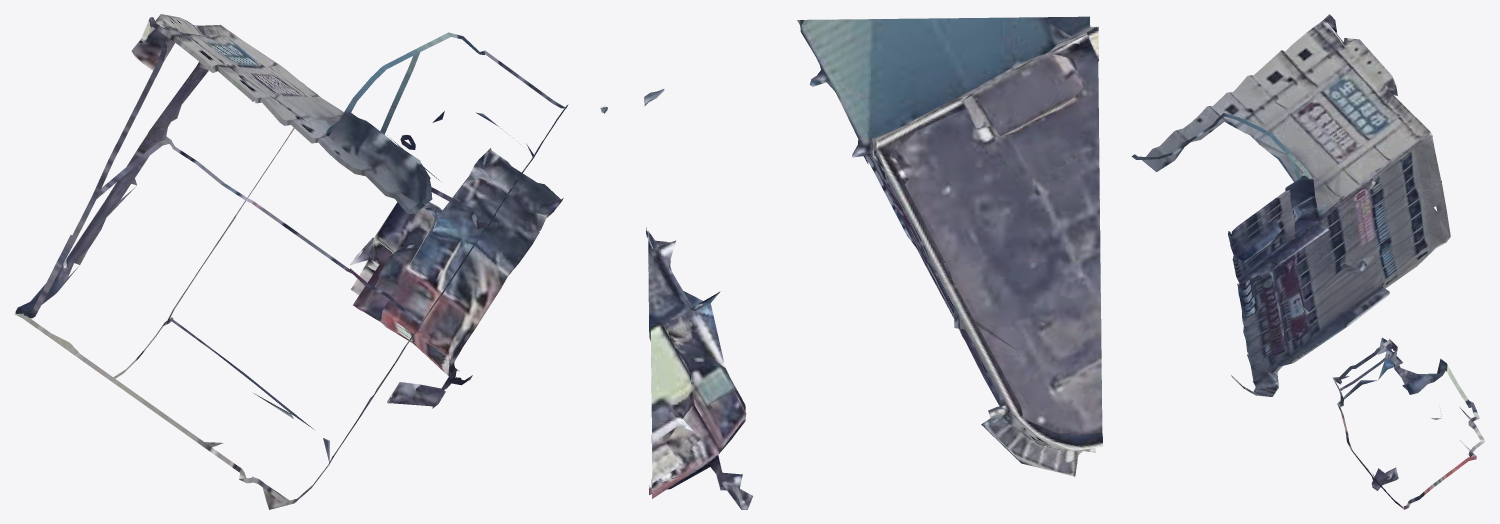
The picture shows the model from 3 angles, left to right: view 1: azimuth 30°, elevation 25°; view 2: azimuth 150°, elevation 25°; view 3: azimuth 270°, elevation 25°; orthographic projection. The views are drawn at different scales.
Bounding box in the file's own units: 49.23 × 44.93 × 39.79.
Materials: 2 (2 with a texture image).
